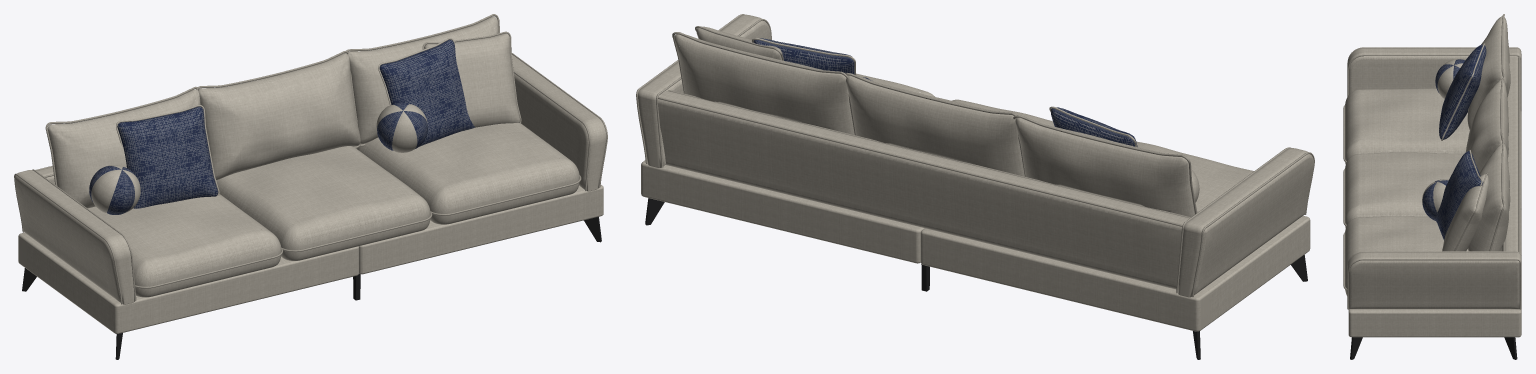
The model's file is straight.glb.
3 views of the same model, side by side, from view 1: azimuth 30°, elevation 25°; view 2: azimuth 150°, elevation 25°; view 3: azimuth 270°, elevation 25° (orthographic). The views are drawn at different scales.
Parts seen in each view (by area): view 1: fabric (×2), accent, pillows, legs; view 2: fabric (×2), accent, pillows, legs; view 3: fabric (×2), accent, pillows (×2), legs.
Part boxes in pixels (box(x1,y1,x2,y2)): fabric (×2): box(14, 14, 607, 333); accent: box(89, 39, 474, 214); pillows: box(91, 33, 520, 213); legs: box(22, 217, 601, 359); fabric (×2): box(636, 14, 1314, 331); accent: box(753, 38, 1137, 146); pillows: box(696, 26, 1199, 202); legs: box(645, 198, 1307, 359); fabric (×2): box(1343, 14, 1521, 337); accent: box(1422, 44, 1486, 240); pillows (×2): box(1422, 43, 1488, 251); legs: box(1350, 337, 1517, 359).
Size of the model in its own units: 3 by 0.9684 by 1.06.
5 materials, 4 textured.
